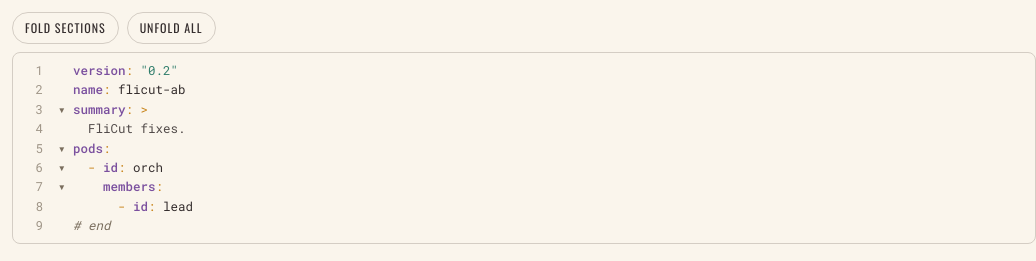
Test case: YamlView › colours tokens, numbers lines, and folds a section and unfolds it again
The width and height of the screenshot is (1036, 261).
expect the text with class "y-key" reads "version": met, box [73,62,126,78]
expect the text with class "y-string" reads "\"0.2\"": met, box [140,62,178,78]
Step 1. Click the button with test id "yaml-fold" next to "pods" → (62, 148), box [53,138,70,158]
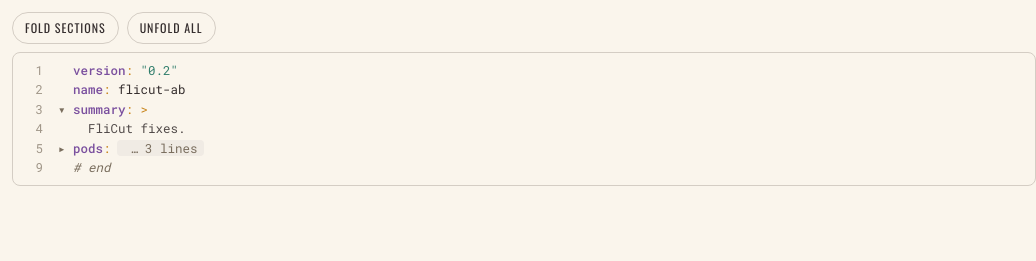
expect the button with test id "yaml-fold" is collapsed: met, box [53,138,70,158]
expect the number of elements with class "yaml-line" is 6: met, box [36,62,178,78]; [36,81,186,97]; [36,100,148,119]; [36,120,186,136]; [36,138,204,158]; [36,159,110,175]
expect the text "… 3 lines" is shown: met, box [116,140,204,156]
Step 2. Click the button with test id "yaml-unfold" → (171, 28), box [127,12,216,44]
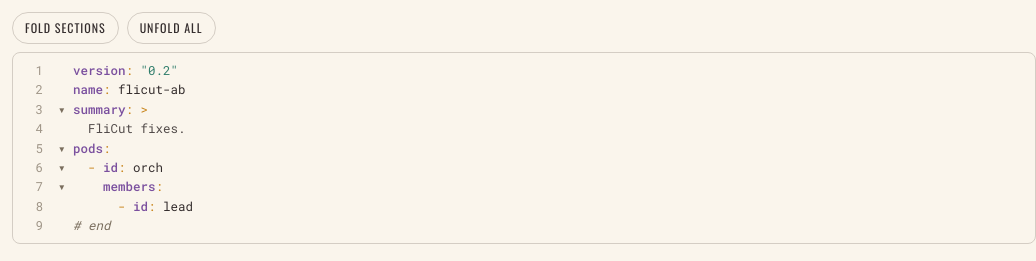
expect the number of elements with class "yaml-line" is 9: met
